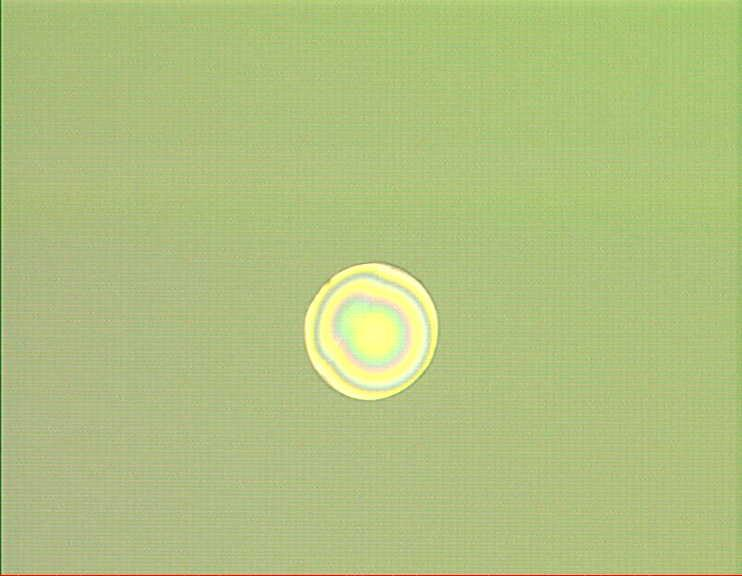BLOCK ETCH: (301, 261, 441, 401)
